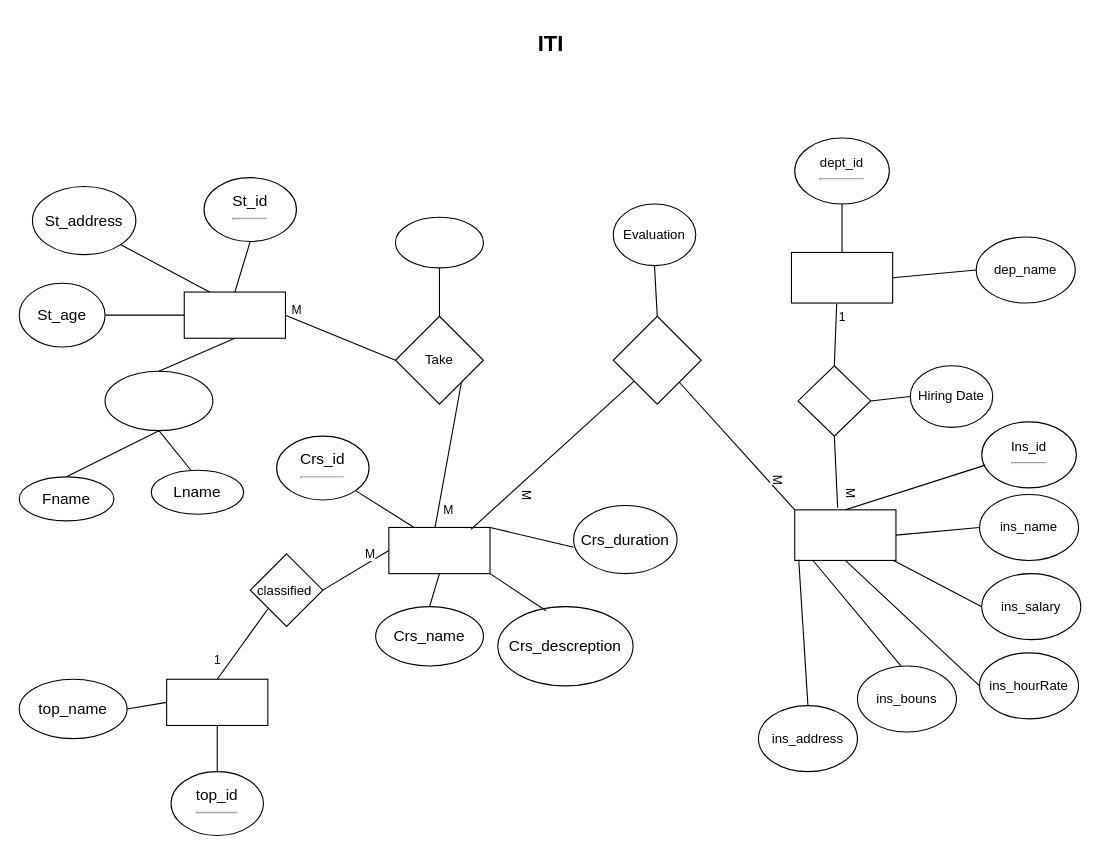
Image size: 1100x855. Some labels were removed from this diagram. The box of each missing label's shape, as (x1, y1, x2, y2) in pixels:
Courses: (388, 526, 490, 574)
Departments: (790, 251, 893, 303)
Grade: (394, 216, 483, 268)
Instructors: (794, 509, 896, 560)
Mange: (797, 365, 871, 436)
studentName: (104, 370, 213, 431)
Students: (183, 291, 285, 338)
Teach: (612, 315, 701, 404)
Topics: (166, 678, 268, 725)
